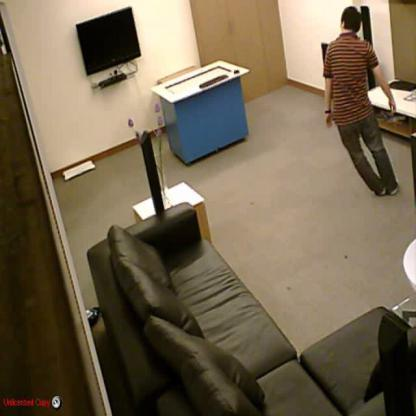Person: (324, 6, 399, 197)
